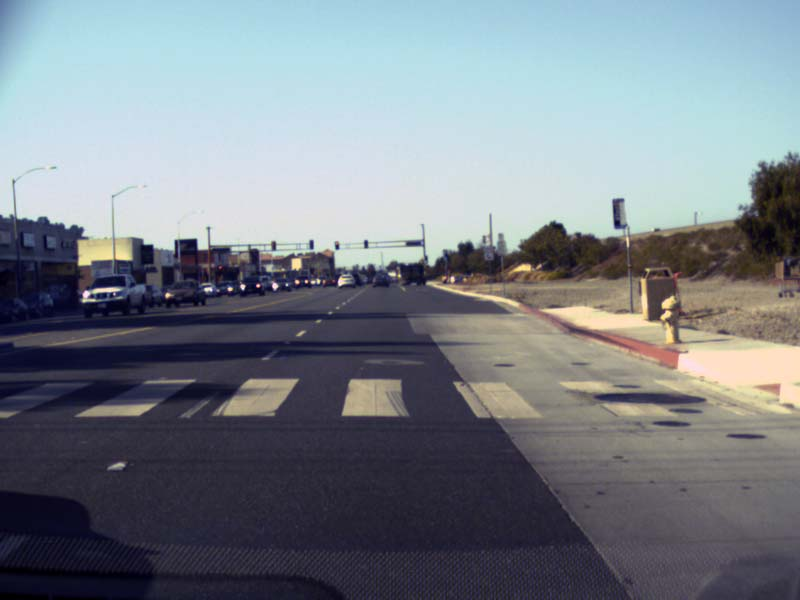Red: (217, 264, 223, 274), (334, 241, 338, 248)
